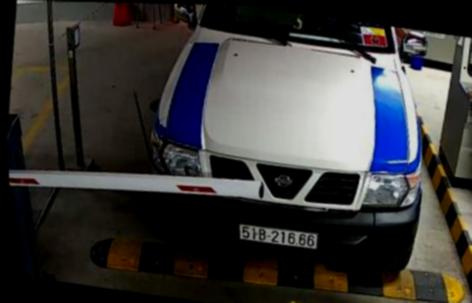License_Plate: (233, 220, 323, 254)
